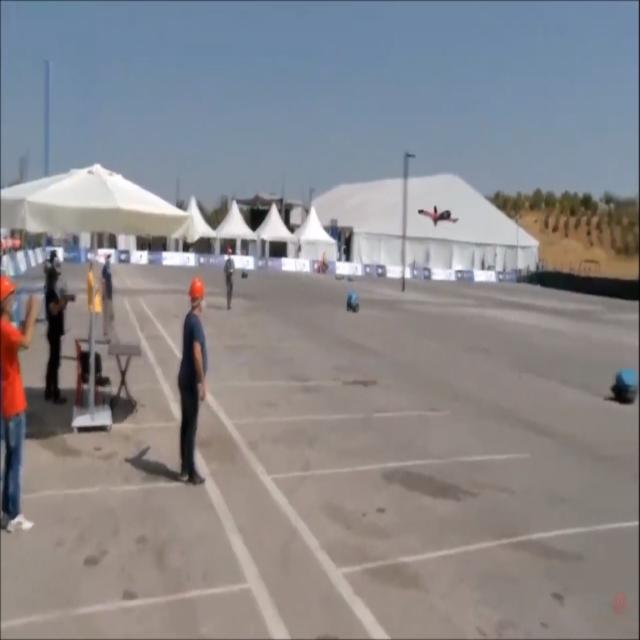iha: (417, 204, 459, 229)
